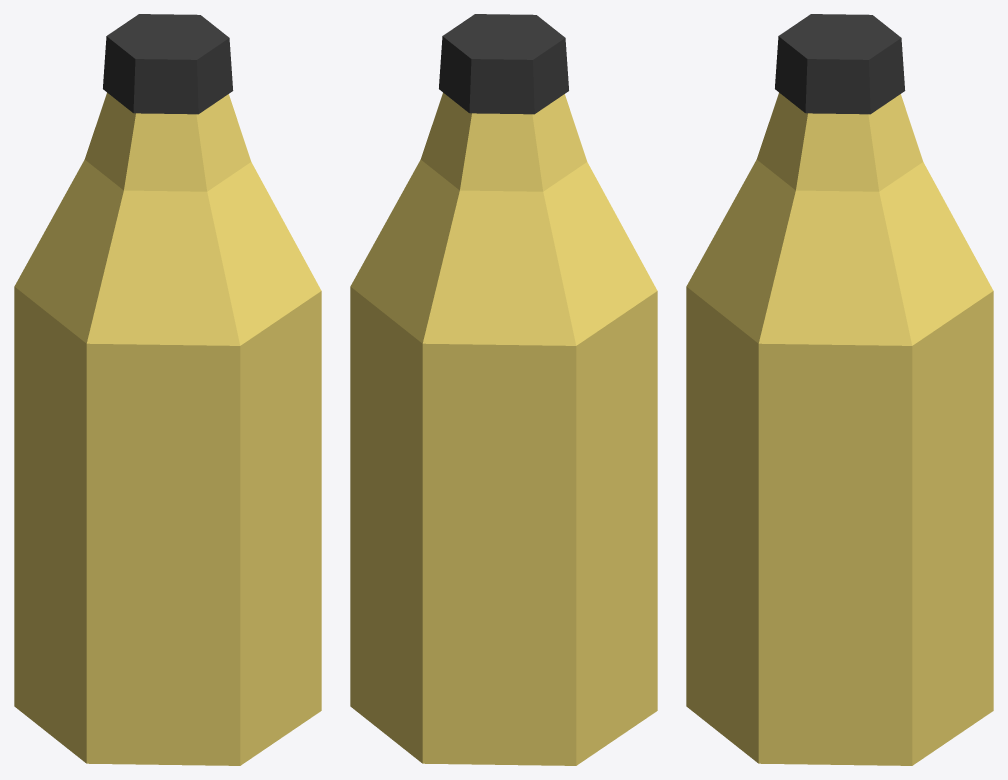
File: Bottle_10.fbx
The picture shows the model from 3 angles, left to right: view 1: azimuth 30°, elevation 25°; view 2: azimuth 150°, elevation 25°; view 3: azimuth 270°, elevation 25°; orthographic projection.
Parts seen in each view (by area): view 1: Bottle_10; view 2: Bottle_10; view 3: Bottle_10.
Part boxes in pixels (x1,y1,x2,y2): Bottle_10: (14,14,321,765); Bottle_10: (350,14,657,765); Bottle_10: (686,14,993,765).
Size of the model in its own units: 6.44 by 7.29 by 17.6.
